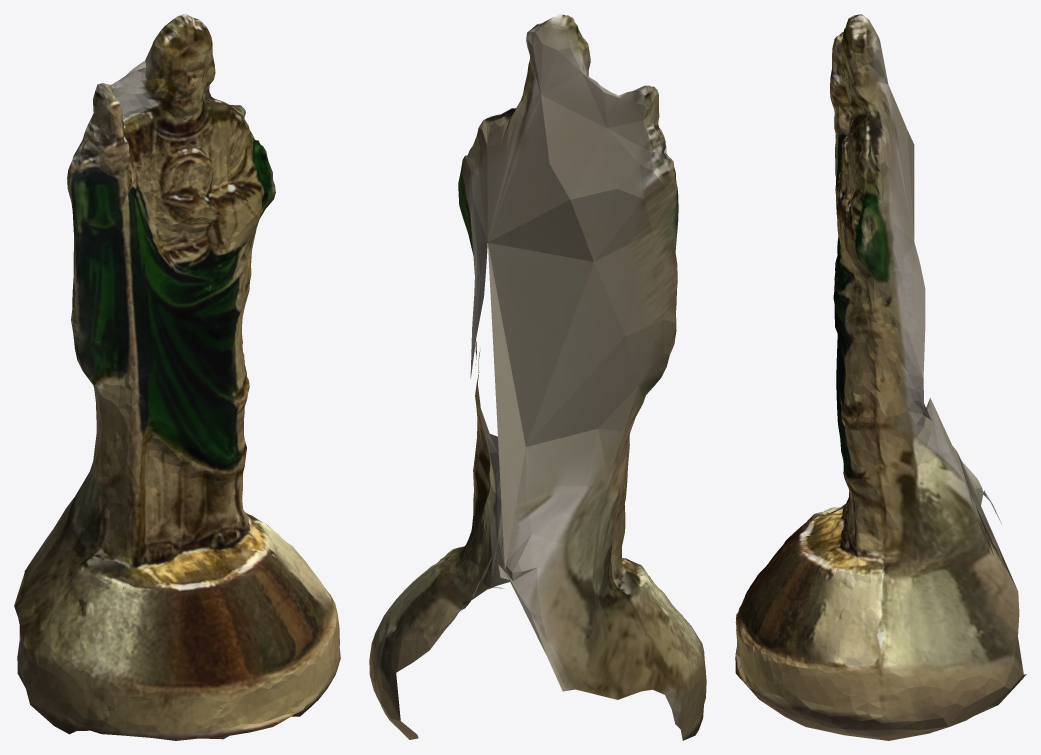
The model's file is Mini Gold Statue.glb.
The picture shows the model from 3 angles, left to right: view 1: azimuth 30°, elevation 25°; view 2: azimuth 150°, elevation 25°; view 3: azimuth 270°, elevation 25°; orthographic projection. The views are drawn at different scales.
Bounding box in the file's own units: 0.1775 × 0.4131 × 0.1606.
Materials: 1 (1 with a texture image).
